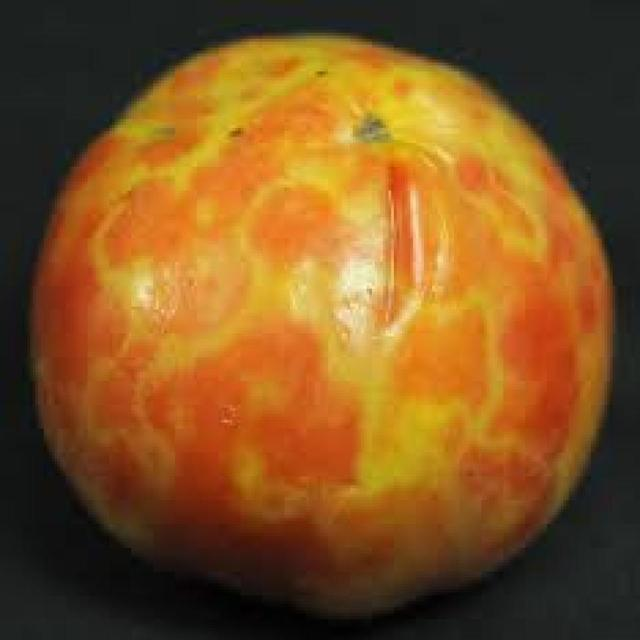Spotted wilt Virus Fruit: (10, 60, 30, 321)
